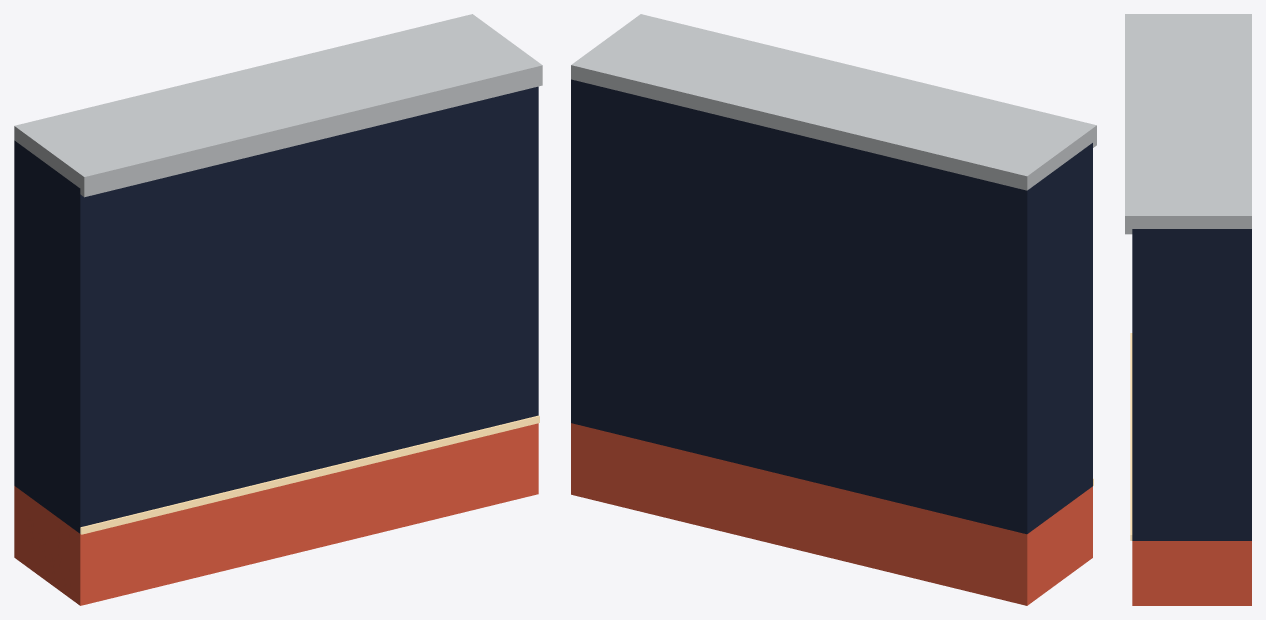
Rendered from SC_Bld_Store_Fascia_1m_Plain.gltf.
3 views of the same model, side by side, from view 1: azimuth 30°, elevation 25°; view 2: azimuth 150°, elevation 25°; view 3: azimuth 270°, elevation 25° (orthographic). The views are drawn at different scales.
Visible parts, largest first — view 1: SC_Bld_Store_Fascia_1m_Plain; view 2: SC_Bld_Store_Fascia_1m_Plain; view 3: SC_Bld_Store_Fascia_1m_Plain.
Part boxes in pixels (box(x1,y1,x2,y2)): SC_Bld_Store_Fascia_1m_Plain: box(14, 14, 542, 605); SC_Bld_Store_Fascia_1m_Plain: box(571, 14, 1096, 605); SC_Bld_Store_Fascia_1m_Plain: box(1125, 14, 1251, 605).
Size of the model in its own units: 1 by 0.912 by 0.265.
2 materials, 2 textured.
